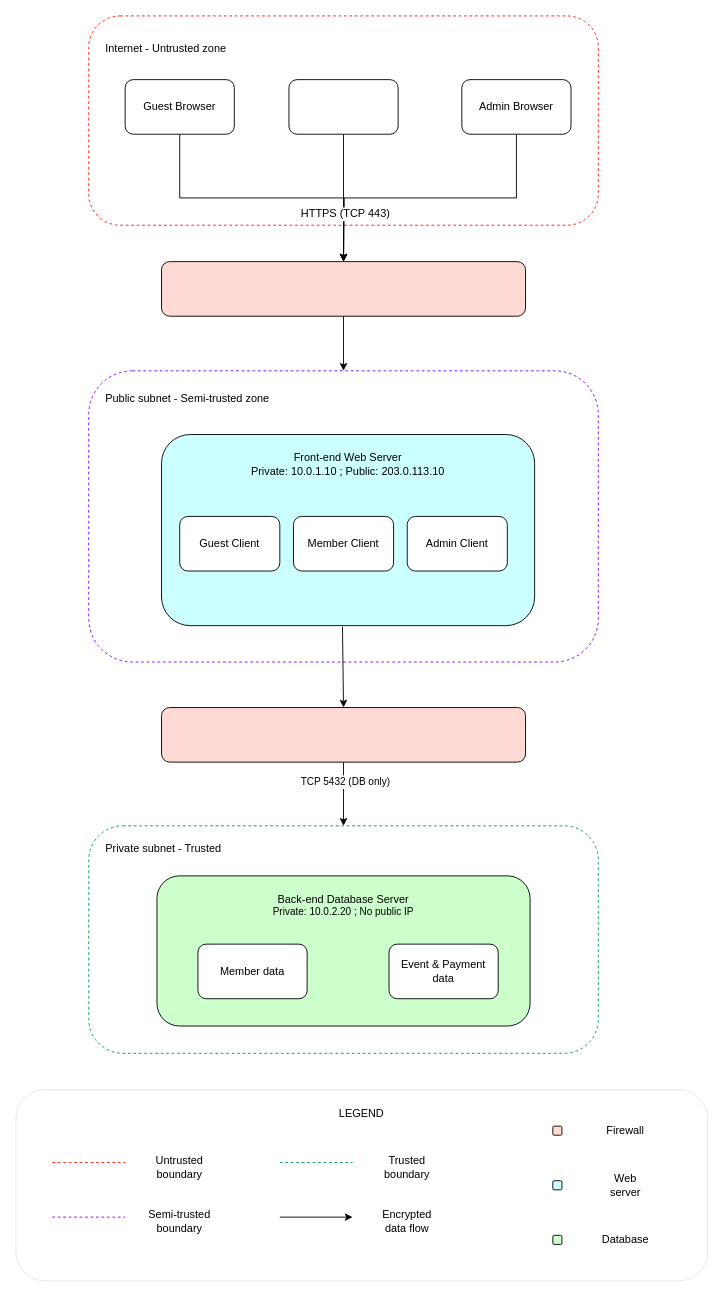
Some shapes in this 723 by 1297 pixel diagram are drawn without their labels. Here are the shapes that lost their labels. From the top down, the centre of each, then its label:
At (343,106): "Member Browser".
At (343,288): "Perimeter Firewall".
At (343,734): "Internal Firewall".
